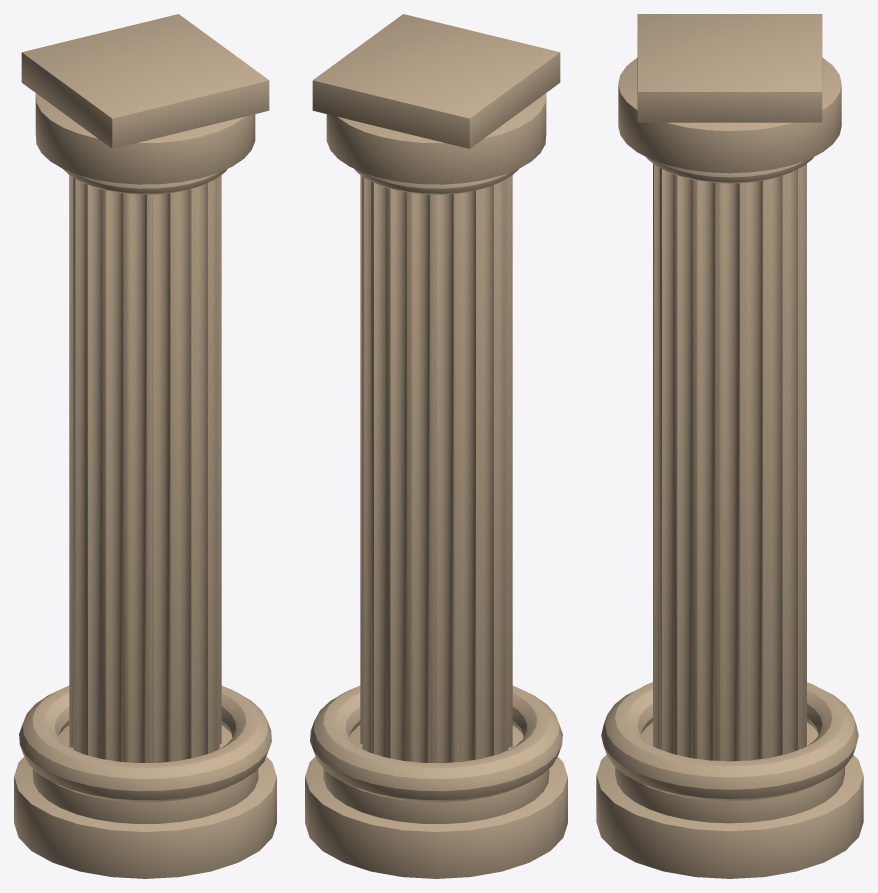
The model's file is pillar.glb.
3 renders of one model, left to right at view 1: azimuth 30°, elevation 25°; view 2: azimuth 150°, elevation 25°; view 3: azimuth 270°, elevation 25°, orthographic.
Parts seen in each view (by area): view 1: Pillar; view 2: Pillar; view 3: Pillar.
Boxes of the visible parts, bbox=[...] form: Pillar: bbox=[14, 14, 276, 878]; Pillar: bbox=[305, 14, 567, 878]; Pillar: bbox=[596, 14, 863, 878].
Size of the model in its own units: 1.72 by 5.47 by 1.72.
